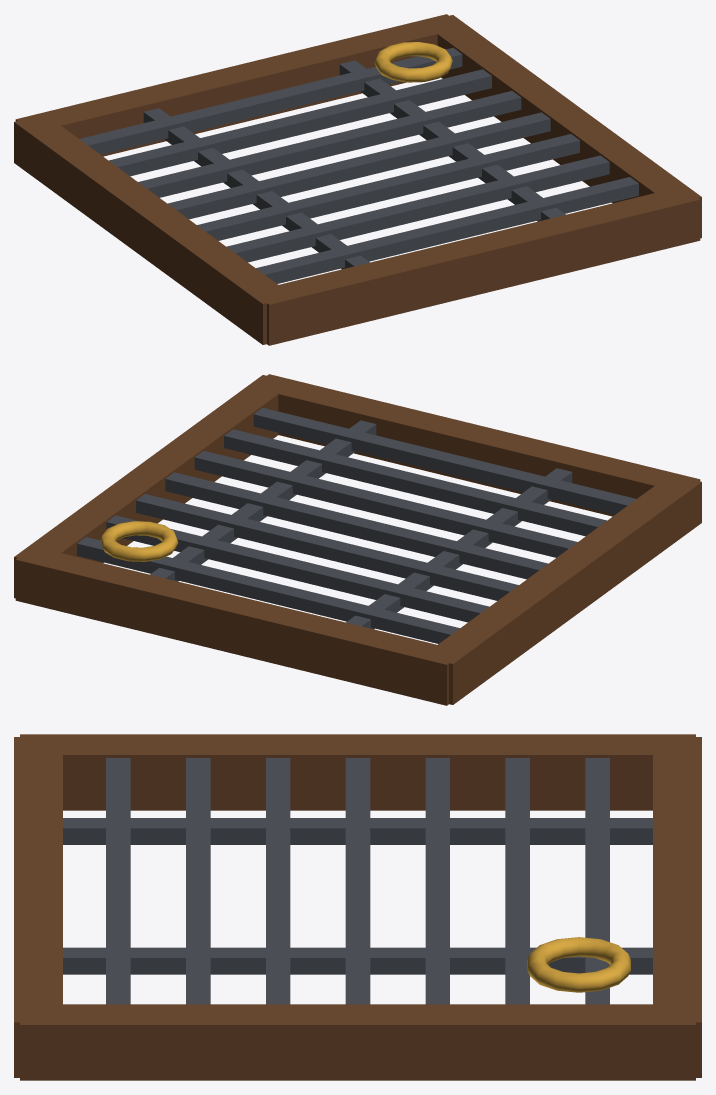
File: BilgeHatch.glb
The picture shows the model from 3 angles, top to bottom: view 1: azimuth 30°, elevation 25°; view 2: azimuth 150°, elevation 25°; view 3: azimuth 270°, elevation 25°; orthographic projection. The views are drawn at different scales.
Visible parts, largest first — view 1: BilgeHatch; view 2: BilgeHatch; view 3: BilgeHatch.
Part boxes in pixels (x1,y1,x2,y2): BilgeHatch: (14,14,701,345); BilgeHatch: (14,374,701,705); BilgeHatch: (14,734,701,1080).
Bounding box in the file's own units: 1.12 × 0.1268 × 1.12.
